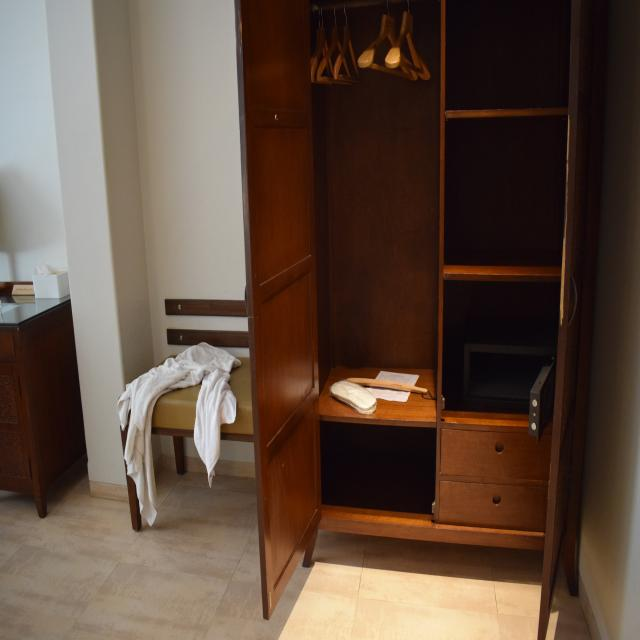mess: (124, 296, 243, 452), (334, 339, 466, 450)
